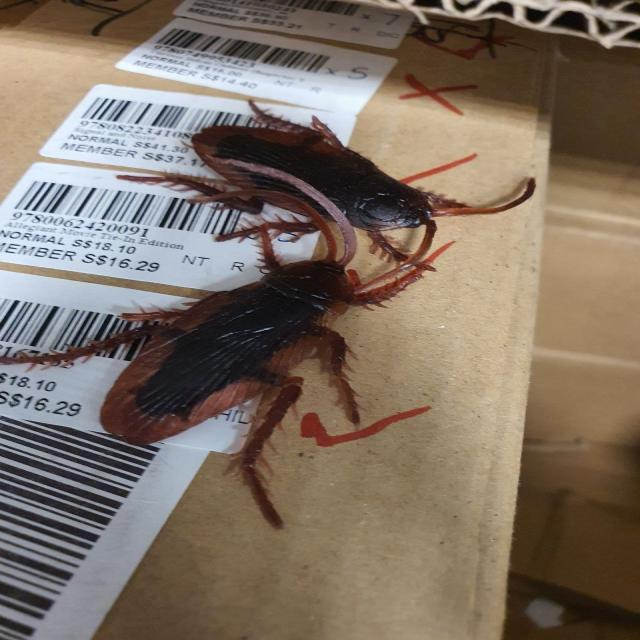Cockroach: (12, 234, 491, 526), (130, 82, 556, 266)
